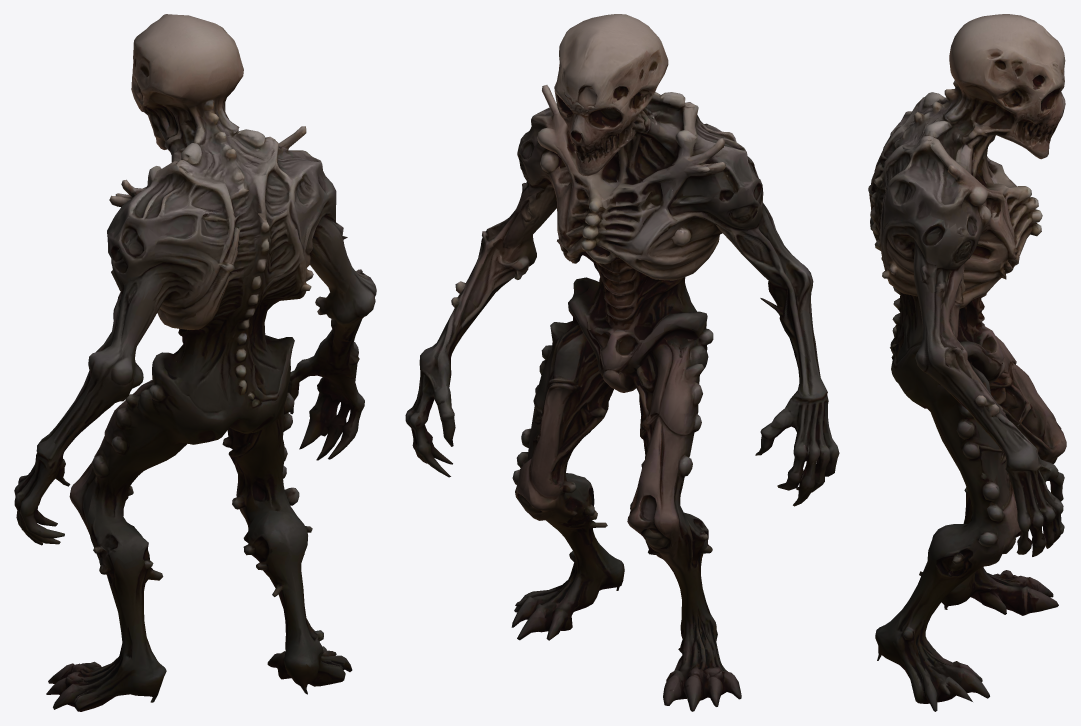
File: Entity_Monster.fbx
3 renders of one model, left to right at view 1: azimuth 30°, elevation 25°; view 2: azimuth 150°, elevation 25°; view 3: azimuth 270°, elevation 25°, orthographic. The views are drawn at different scales.
Parts seen in each view (by area): view 1: tripo_node_d92ff015-63b5-4110-a93d-5544040e959c.001; view 2: tripo_node_d92ff015-63b5-4110-a93d-5544040e959c.001; view 3: tripo_node_d92ff015-63b5-4110-a93d-5544040e959c.001.
Part boxes in pixels (box(x1,y1,x2,y2)): tripo_node_d92ff015-63b5-4110-a93d-5544040e959c.001: box(14, 14, 376, 711); tripo_node_d92ff015-63b5-4110-a93d-5544040e959c.001: box(405, 14, 839, 711); tripo_node_d92ff015-63b5-4110-a93d-5544040e959c.001: box(868, 14, 1066, 711).
Bounding box in the file's own units: 0.6189 × 1 × 0.2843.
Materials: 1 (1 with a texture image).
